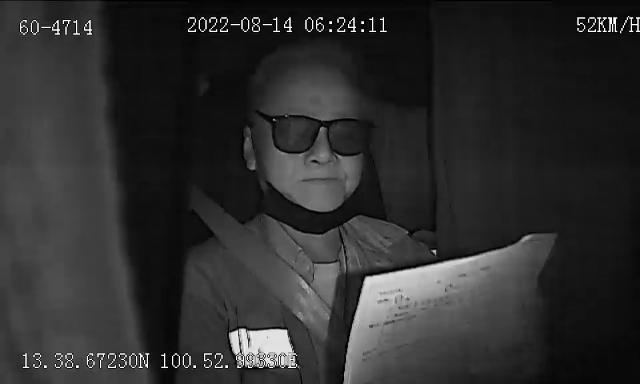Seatbelt: (191, 186, 337, 354)
